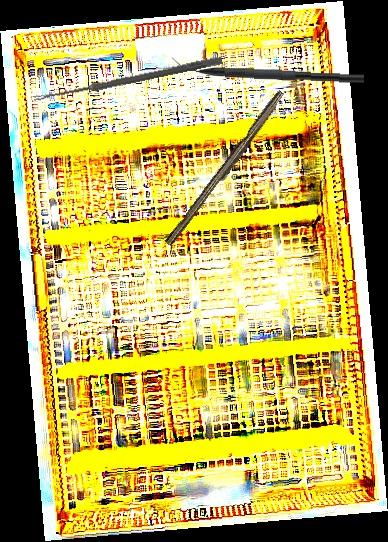Chopper: (171, 54, 365, 84)
Scalpel Handle: (164, 88, 288, 250)
Surgical Spoon: (33, 55, 223, 104)
